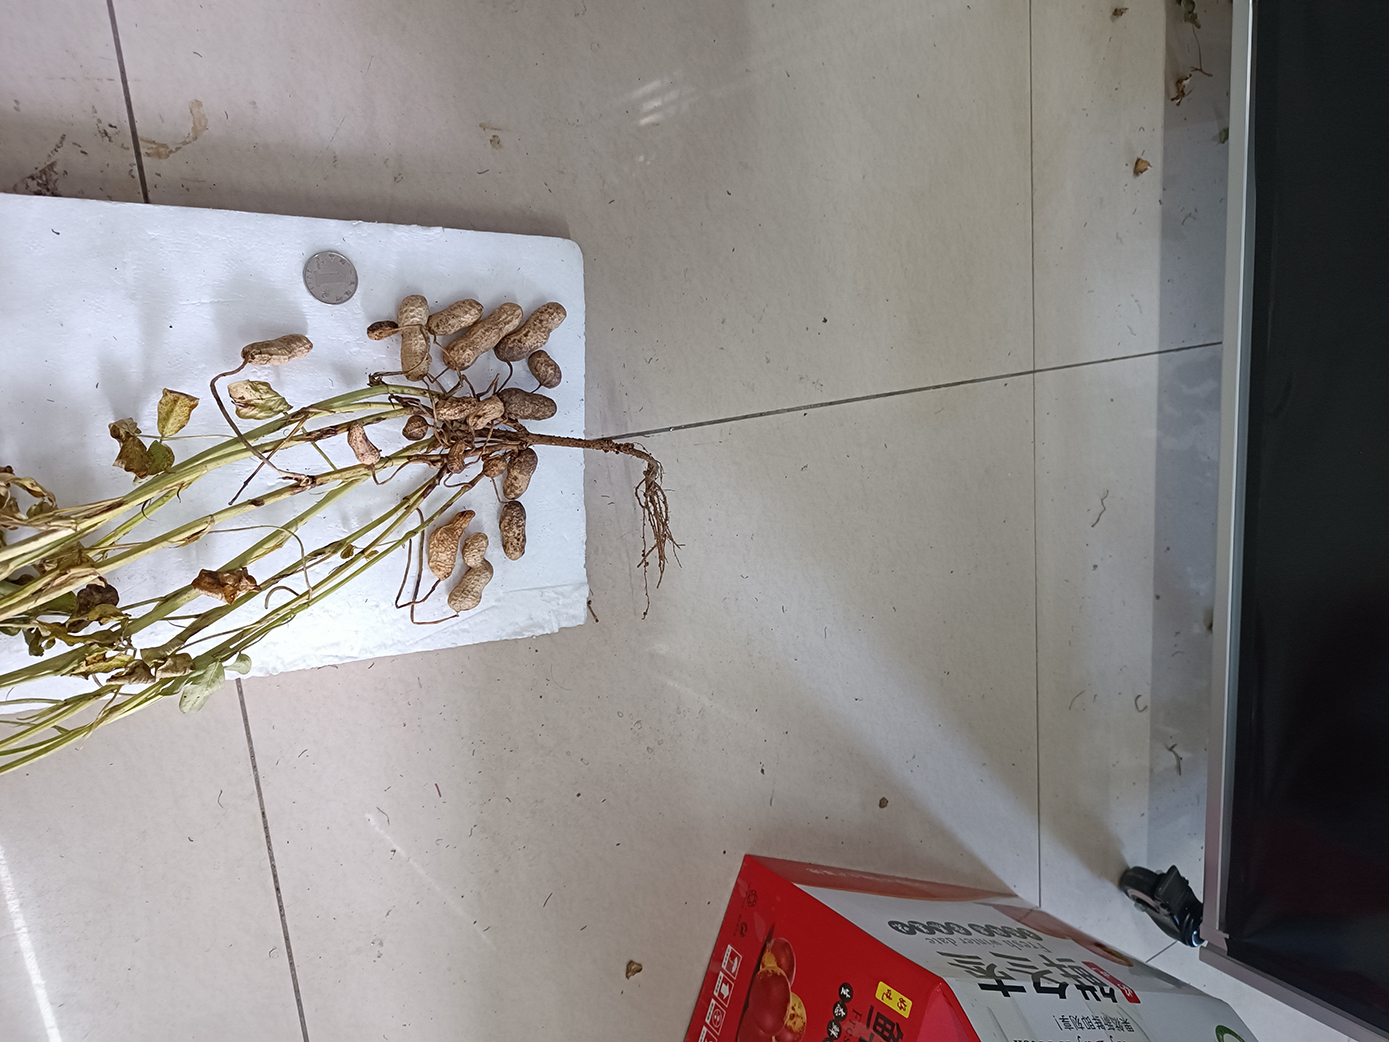h: (443, 304, 522, 370), (494, 303, 566, 360), (447, 533, 494, 611), (427, 510, 477, 580), (398, 294, 432, 380), (241, 334, 314, 366), (426, 299, 483, 333), (503, 449, 539, 501), (347, 422, 382, 466), (466, 397, 503, 429), (530, 350, 562, 387), (435, 397, 475, 419), (447, 440, 467, 475), (366, 321, 398, 340), (482, 458, 506, 479)
l: (499, 387, 557, 421), (499, 501, 526, 561), (402, 416, 427, 441)
